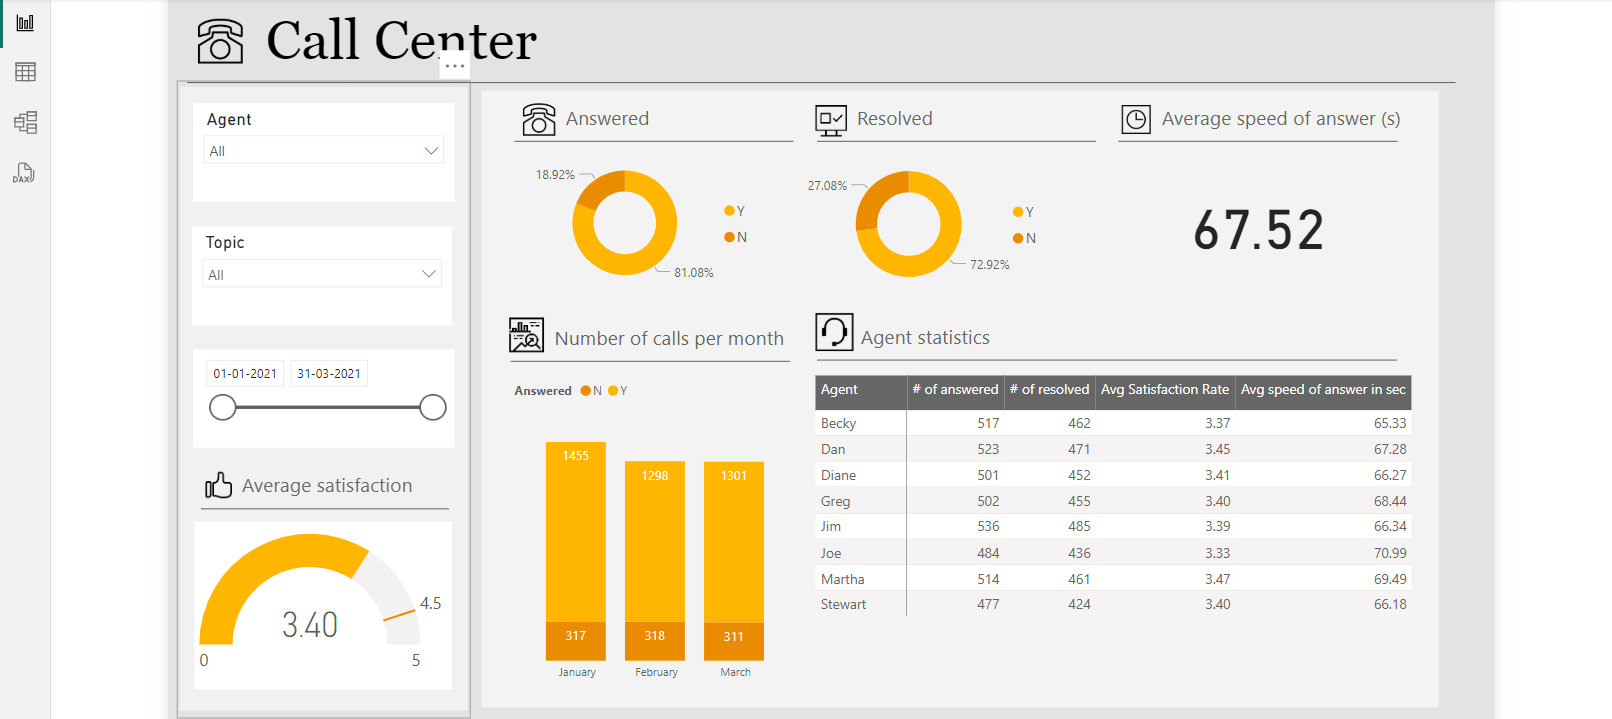

Layout of this report page (visuals, bound fields, positions):
{"tool":"powerbi","page":{"name":"Call Center Manager","canvas":[1280,720],"ordinal":0},"visuals":[{"type":"textbox","box":[89.7,4.8,1172,75.2],"z":0},{"type":"basicShape","box":[9,61,1244.3,40.1],"z":1000},{"type":"basicShape","box":[8.7,80.1,283.6,614.4],"z":2000},{"type":"basicShape","box":[292.6,83.8,942.7,607.6],"z":3000},{"type":"image","box":[24.1,7.7,53.1,68.5],"z":5000},{"type":"columnChart","fields":{"Category":["Call Center.Date.Variation.Date Hierarchy.Month"],"Y":["CountNonNull(Call Center.Call Id)"],"Series":["Call Center.Answered (Y/N)"]},"box":[329.5,359.7,284.8,308.3],"z":6000},{"type":"slicer","fields":{"Values":["Call Center.Date"]},"box":[24.6,339.5,252.4,94.9],"z":7000},{"type":"pivotTable","fields":{"Rows":["Call Center.Agent"],"Values":["Call Center.# of answered","Call Center.# of resolved","Avg(Call Center.Satisfaction rating)","Avg(Call Center.Speed of answer in seconds)"]},"box":[619.9,359.7,607.6,279.2],"z":8000},{"type":"slicer","fields":{"Values":["Call Center.Agent"]},"box":[24.6,101.6,252.4,95],"z":9000},{"type":"slicer","fields":{"Values":["Call Center.Topic"]},"box":[23.5,220.6,251.3,94.9],"z":10000},{"type":"donutChart","fields":{"Category":["Call Center.Resolved"],"Y":["CountNonNull(Call Center.Resolved)"]},"box":[611,143,242.4,149.7],"z":11000},{"type":"gauge","fields":{"Y":["Avg(Call Center.Satisfaction rating)"],"MaxValue":["Max(Call Center.Satisfaction rating)"],"TargetValue":["Call Center.Target Value Satisfaction"]},"box":[25.7,506,249.1,162],"z":12000},{"type":"image","box":[31.1,452.4,35.7,35.7],"z":13000},{"type":"textbox","box":[66.8,452.4,188.1,35.7],"z":14000},{"type":"basicShape","box":[21.2,472.5,259.1,40.2],"z":15000},{"type":"donutChart","fields":{"Category":["Call Center.Answered (Y/N)"],"Y":["CountNonNull(Call Center.Answered (Y/N))"]},"box":[341.8,141.8,232.3,149.7],"z":16000},{"type":"textbox","box":[378.6,98.3,172,35.7],"z":17000},{"type":"textbox","box":[660.1,98.3,183.2,35.7],"z":18000},{"type":"card","fields":{"Values":["Avg(Call Center.Speed of answer in seconds)"]},"box":[953.9,148.6,196.6,136.3],"z":19000},{"type":"basicShape","box":[906.9,118.4,289.3,40.2],"z":20000},{"type":"textbox","box":[953.9,98.3,250.2,35.7],"z":21000},{"type":"basicShape","box":[325,118.4,289,40.2],"z":22000},{"type":"basicShape","box":[616,118.4,289,40.2],"z":23000},{"type":"image","box":[915.9,88.2,38,59.2],"z":24000},{"type":"image","box":[337.3,94.9,41.3,43.6],"z":25000},{"type":"image","box":[619.9,88.2,40.2,61.4],"z":26000},{"type":"textbox","box":[367.4,310.5,250.2,35.7],"z":27000},{"type":"basicShape","box":[320.5,330.6,289.3,40.2],"z":28000},{"type":"textbox","box":[663.4,309.3,250.2,35.7],"z":29000},{"type":"basicShape","box":[616.5,329.5,579.7,40.2],"z":30000},{"type":"image","box":[619.9,294.9,46.9,55.8],"z":31000},{"type":"image","box":[325,290.4,43.6,69.2],"z":32000},{"type":"textbox","box":[7.7,691.6,403.2,28],"z":34000}]}

Visuals, with their boxes on the page's 1280x720 design canvas (x1, y1, x2, y2). These are canvas units, not pixel positions in the 1612x719 screenshot, which may show the page scaled, cropped or inside an application window:
textbox: 90, 5, 1262, 80
basicShape: 9, 61, 1253, 101
basicShape: 9, 80, 292, 694
basicShape: 293, 84, 1235, 691
image: 24, 8, 77, 76
columnChart - Call Center.Date.Variation.Date Hierarchy.Month x CountNonNull(Call Center.Call Id): 330, 360, 614, 668
slicer - Call Center.Date: 25, 340, 277, 434
pivotTable - Call Center.Agent x Call Center.# of answered: 620, 360, 1228, 639
slicer - Call Center.Agent: 25, 102, 277, 197
slicer - Call Center.Topic: 24, 221, 275, 316
donutChart - Call Center.Resolved x CountNonNull(Call Center.Resolved): 611, 143, 853, 293
gauge - Avg(Call Center.Satisfaction rating) x Max(Call Center.Satisfaction rating): 26, 506, 275, 668
image: 31, 452, 67, 488
textbox: 67, 452, 255, 488
basicShape: 21, 472, 280, 513
donutChart - Call Center.Answered (Y/N) x CountNonNull(Call Center.Answered (Y/N)): 342, 142, 574, 292
textbox: 379, 98, 551, 134
textbox: 660, 98, 843, 134
card - Avg(Call Center.Speed of answer in seconds): 954, 149, 1150, 285
basicShape: 907, 118, 1196, 159
textbox: 954, 98, 1204, 134
basicShape: 325, 118, 614, 159
basicShape: 616, 118, 905, 159
image: 916, 88, 954, 147
image: 337, 95, 379, 138
image: 620, 88, 660, 150
textbox: 367, 310, 618, 346
basicShape: 320, 331, 610, 371
textbox: 663, 309, 914, 345
basicShape: 616, 330, 1196, 370
image: 620, 295, 667, 351
image: 325, 290, 369, 360
textbox: 8, 692, 411, 720
